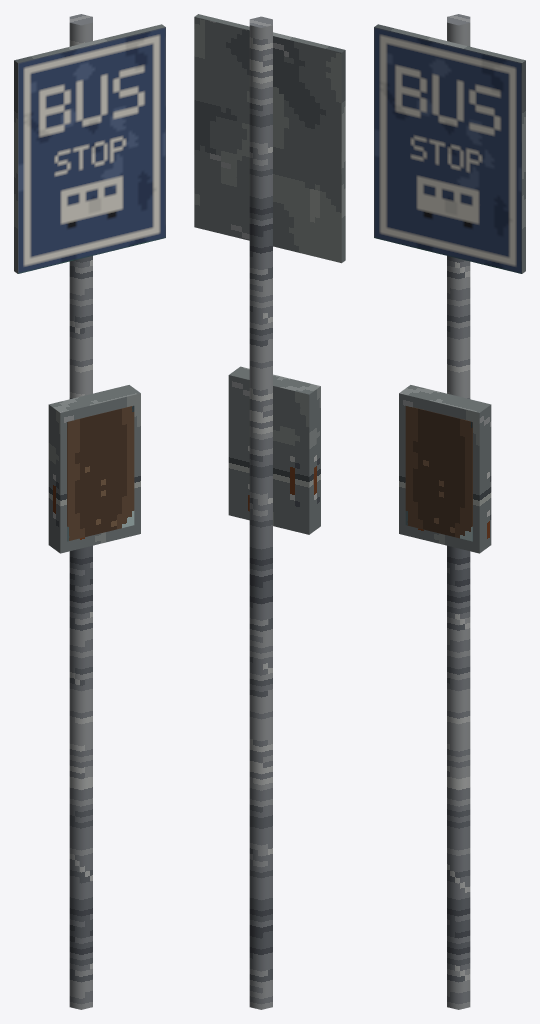
The model's file is SP_Sign_BusStop.obj.
3 renders of one model, left to right at view 1: azimuth 30°, elevation 25°; view 2: azimuth 150°, elevation 25°; view 3: azimuth 330°, elevation 25°, orthographic.
Visible parts, largest first — view 1: SP_Sign_BusStop_Mesh_M_Town_SignAtlas, SP_Sign_BusStop_Mesh_M_Furn_MetalBrushed, SP_Sign_BusStop_Mesh_M_Arch_WindowGlassDirty, SP_Sign_BusStop_Mesh_M_Com_SignageBacking; view 2: SP_Sign_BusStop_Mesh_M_Com_SignageBacking, SP_Sign_BusStop_Mesh_M_Furn_MetalBrushed; view 3: SP_Sign_BusStop_Mesh_M_Town_SignAtlas, SP_Sign_BusStop_Mesh_M_Furn_MetalBrushed, SP_Sign_BusStop_Mesh_M_Arch_WindowGlassDirty, SP_Sign_BusStop_Mesh_M_Com_SignageBacking.
Part boxes in pixels (x1=…): SP_Sign_BusStop_Mesh_M_Town_SignAtlas: x1=18, y1=27, x2=165, y2=273; SP_Sign_BusStop_Mesh_M_Furn_MetalBrushed: x1=69, y1=14, x2=92, y2=1009; SP_Sign_BusStop_Mesh_M_Arch_WindowGlassDirty: x1=67, y1=405, x2=134, y2=541; SP_Sign_BusStop_Mesh_M_Com_SignageBacking: x1=14, y1=24, x2=165, y2=553; SP_Sign_BusStop_Mesh_M_Com_SignageBacking: x1=194, y1=14, x2=345, y2=534; SP_Sign_BusStop_Mesh_M_Furn_MetalBrushed: x1=249, y1=16, x2=272, y2=1009; SP_Sign_BusStop_Mesh_M_Town_SignAtlas: x1=374, y1=27, x2=521, y2=273; SP_Sign_BusStop_Mesh_M_Furn_MetalBrushed: x1=447, y1=14, x2=470, y2=1009; SP_Sign_BusStop_Mesh_M_Arch_WindowGlassDirty: x1=405, y1=405, x2=472, y2=541; SP_Sign_BusStop_Mesh_M_Com_SignageBacking: x1=374, y1=24, x2=525, y2=553.
Bounding box in the file's own units: 0.44 × 2.8 × 0.1313.
4 materials, 4 textured.
